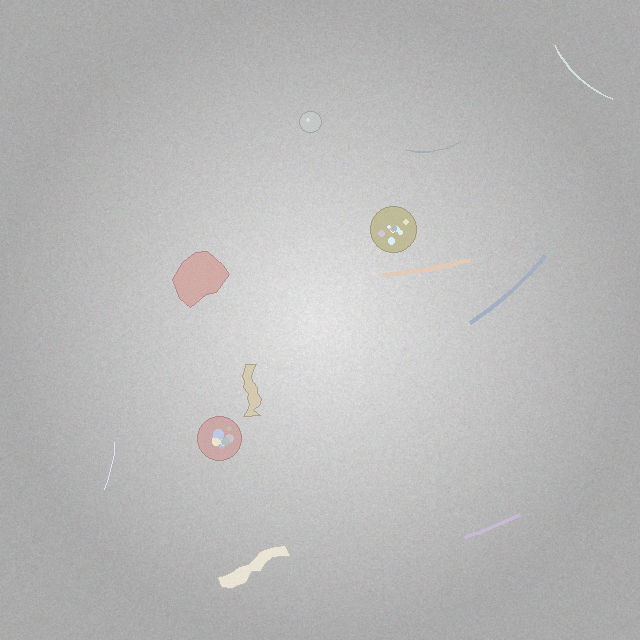fiber: (467, 252, 549, 328), (552, 43, 615, 101), (377, 255, 476, 281), (460, 511, 523, 543), (404, 140, 463, 155), (102, 441, 117, 492)
film: (217, 545, 290, 589), (243, 365, 261, 416)
foam: (371, 207, 417, 253), (198, 416, 242, 460)
fragment: (173, 251, 230, 308)
pellet: (299, 111, 321, 133)
